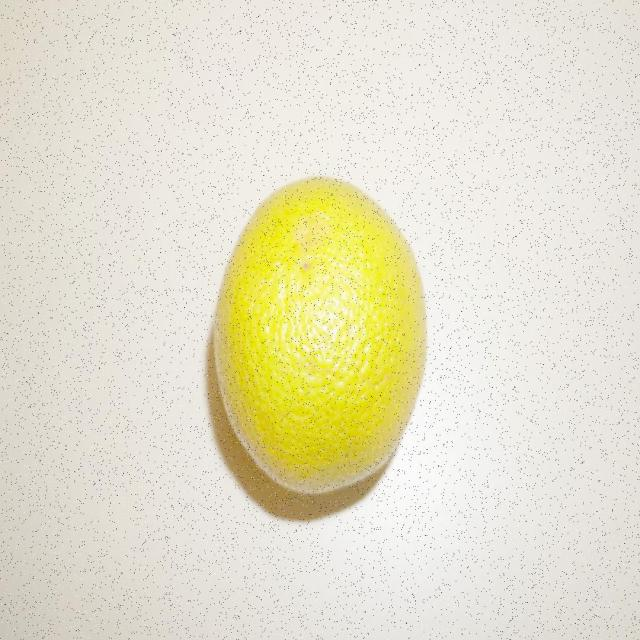Orange: (210, 176, 428, 498)
